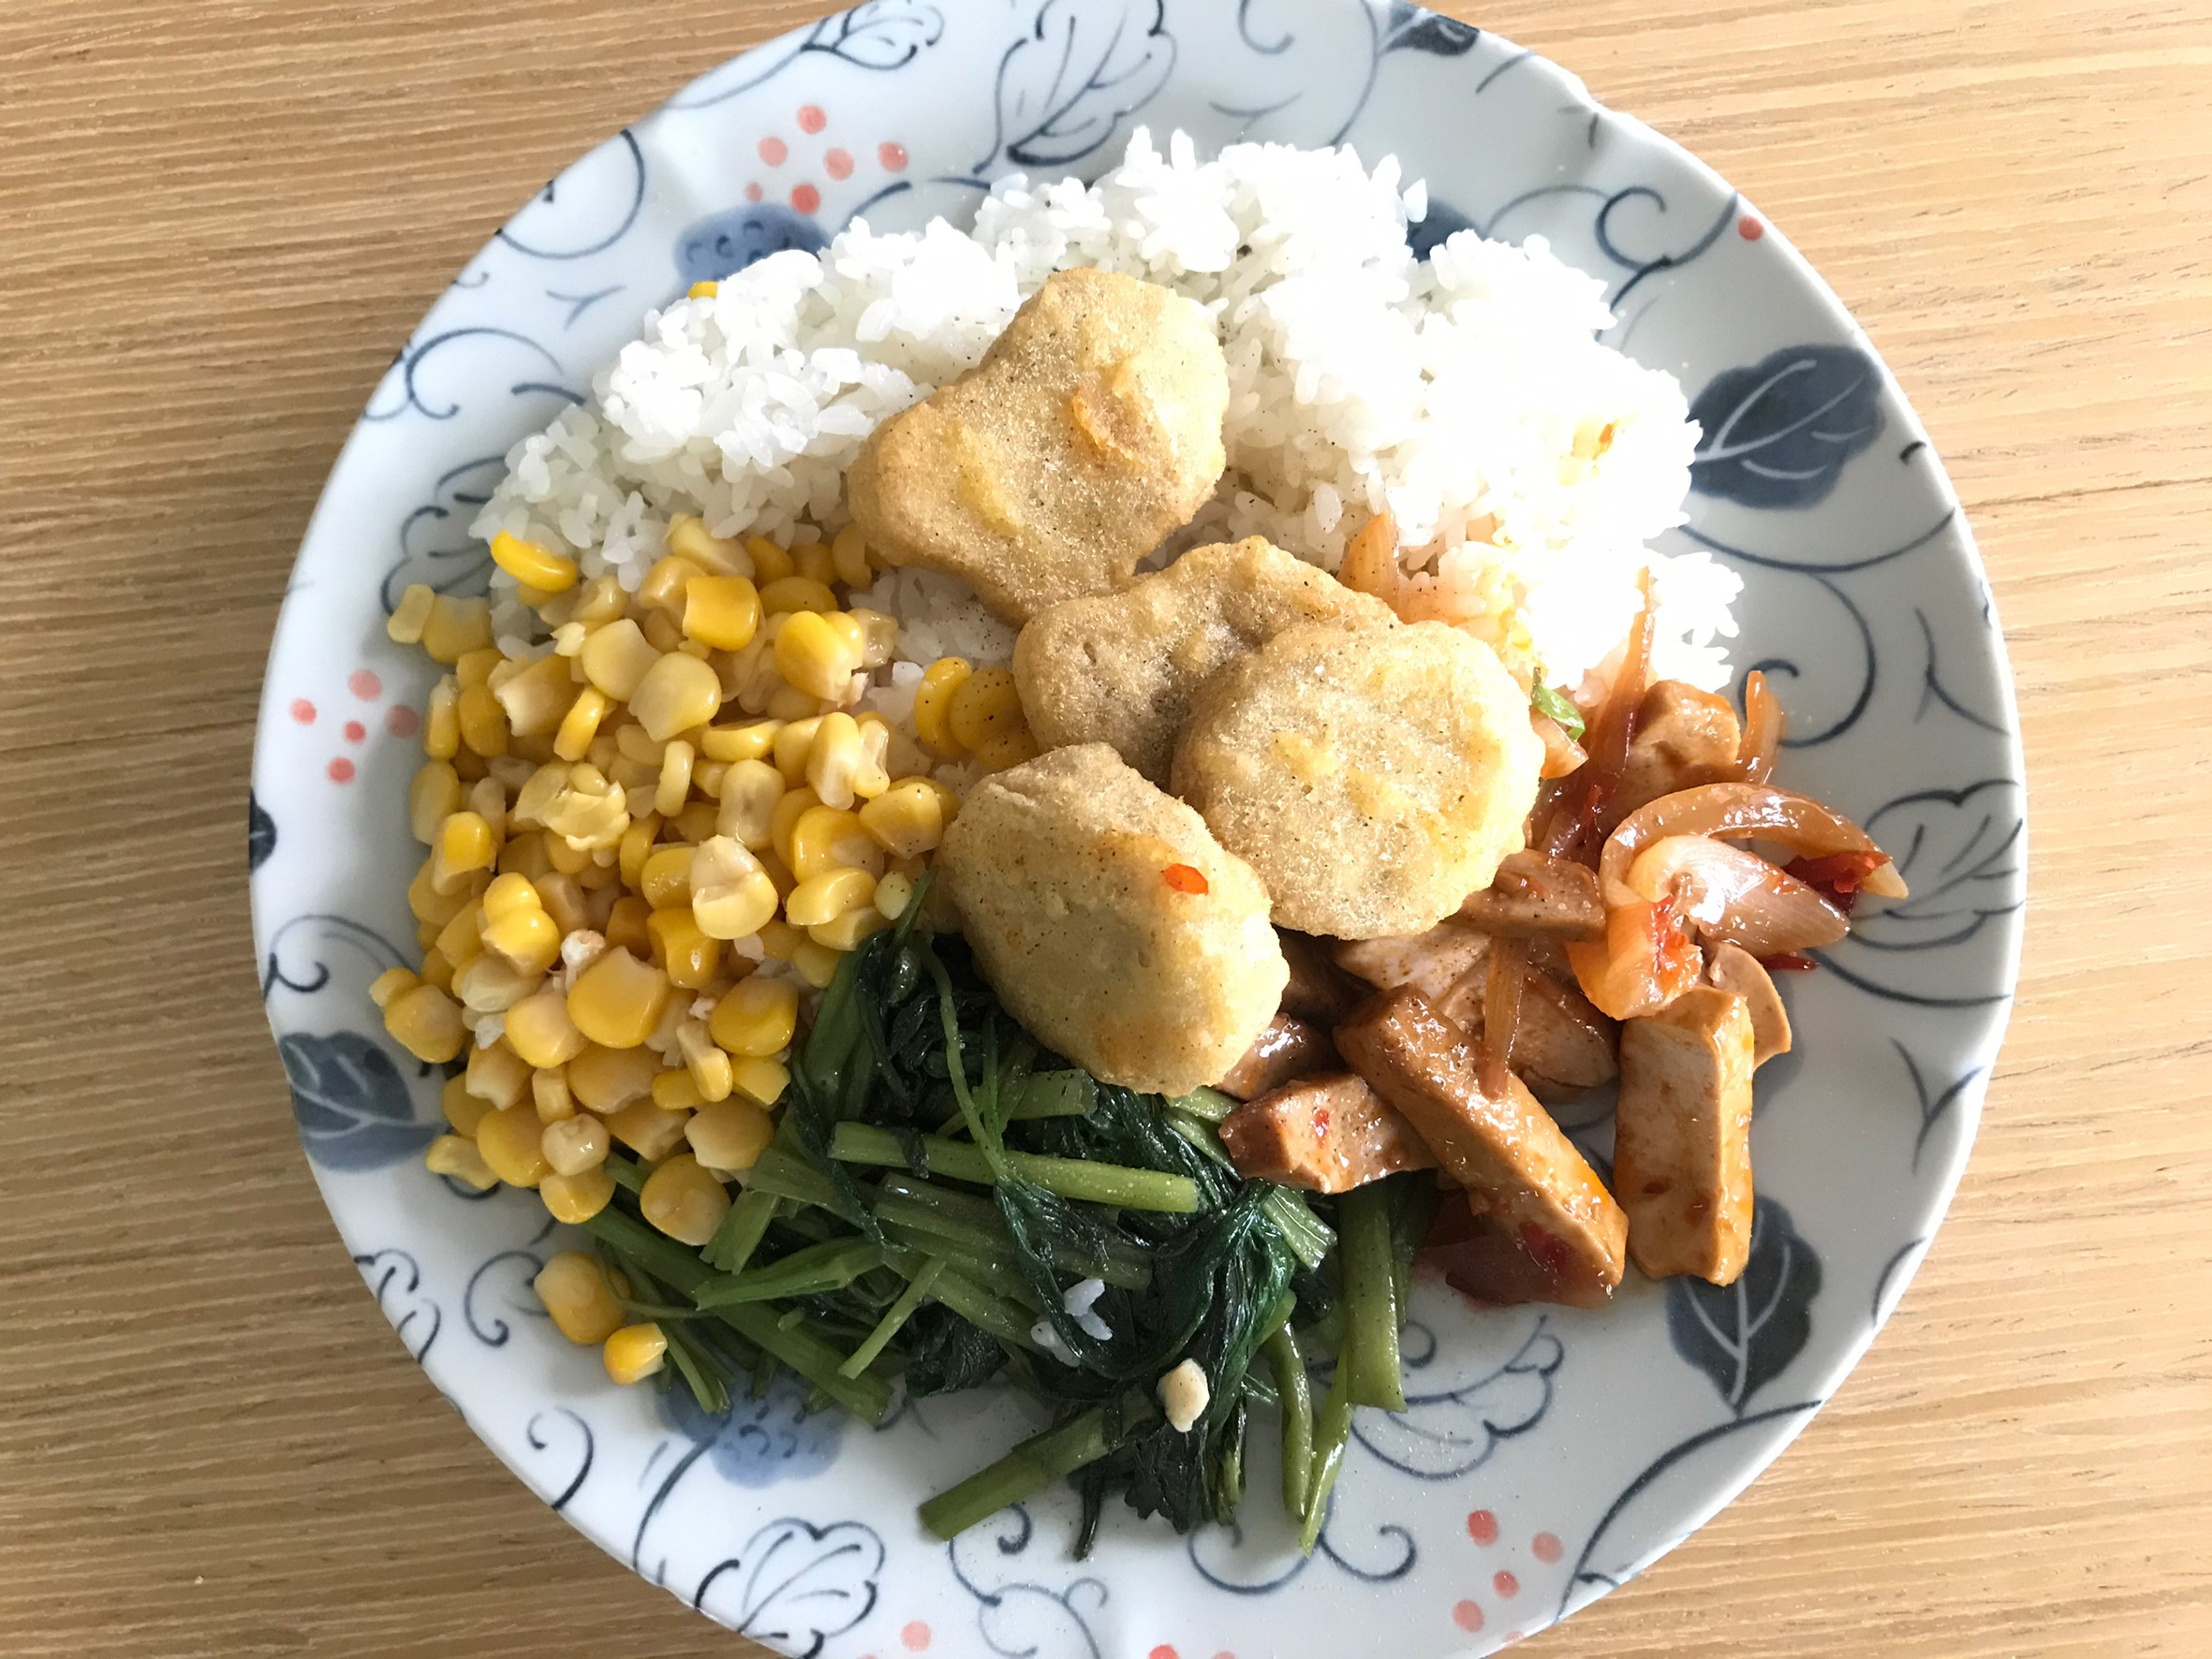chicken_nuggets: (926, 561, 1510, 1107), (866, 282, 1234, 589)
rice: (1227, 120, 1731, 673)
water_spinach: (682, 922, 1367, 1527)
